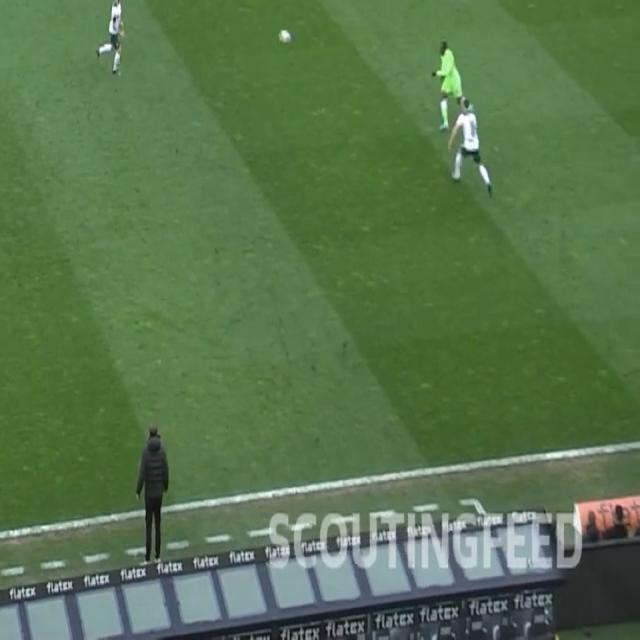ball: (277, 26, 293, 45)
